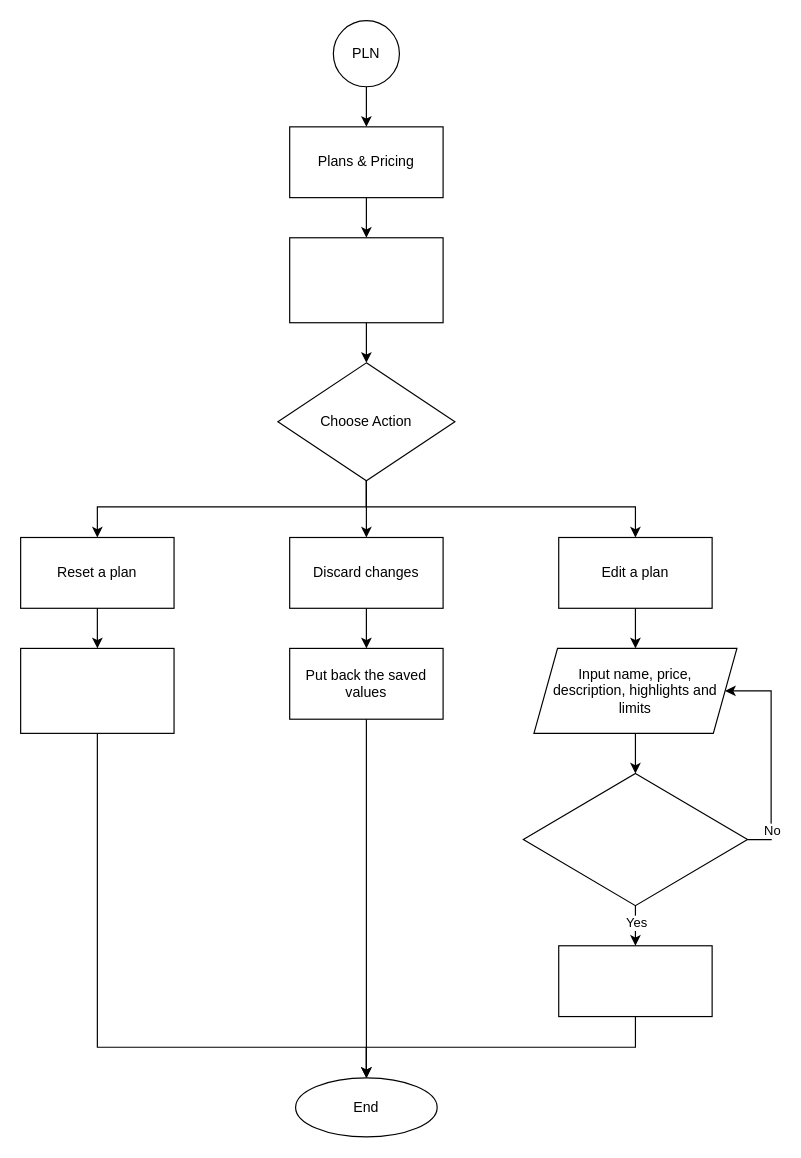
This 801x1158 diagram has some shape labels left out. Each missing label, with the centre of its shape:
Is the input valid?: [635,839]
Reset to original name, price and limits: [96,690]
Save plan: [635,981]
View Basic, Pro and Premium plans and shops on each: [366,280]
